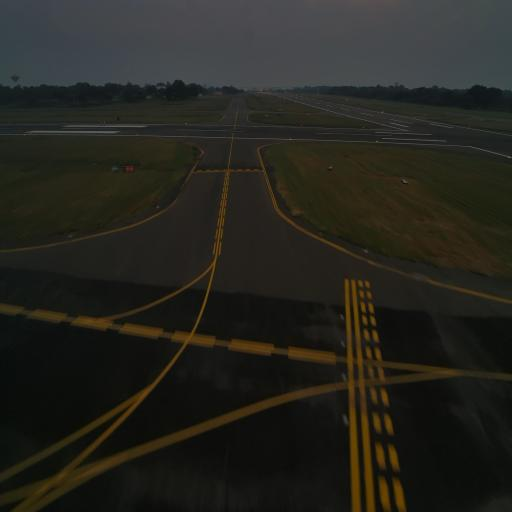off: (342, 410, 350, 426), (341, 369, 350, 383), (338, 308, 346, 320), (340, 336, 346, 351)
